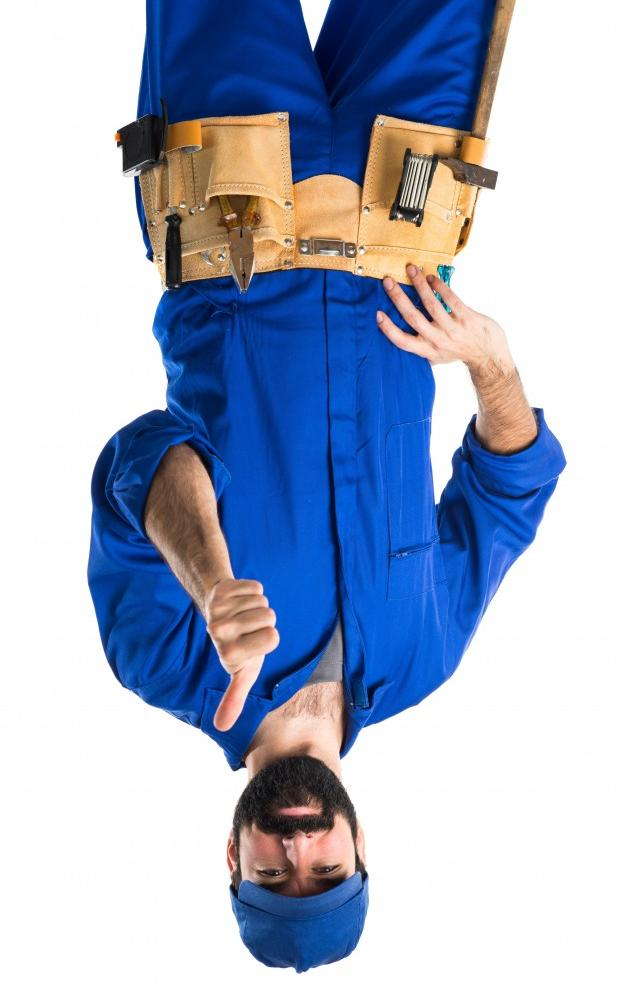thumbsdown: (205, 580, 281, 732)
